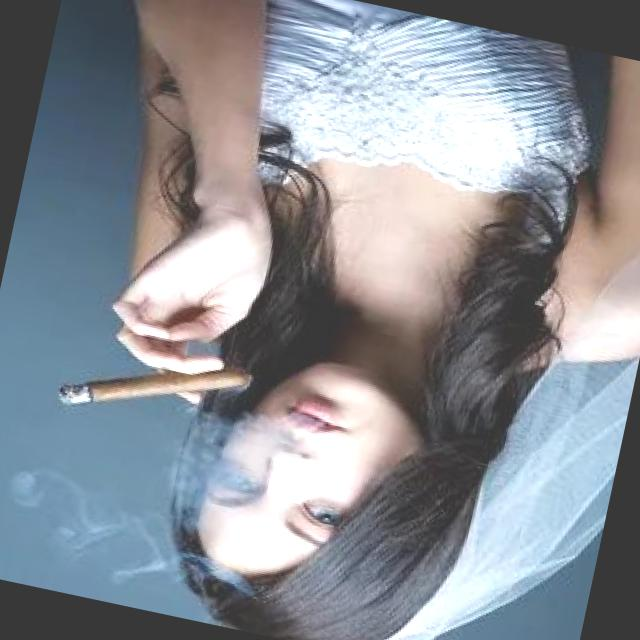cigarette: (52, 328, 255, 446)
